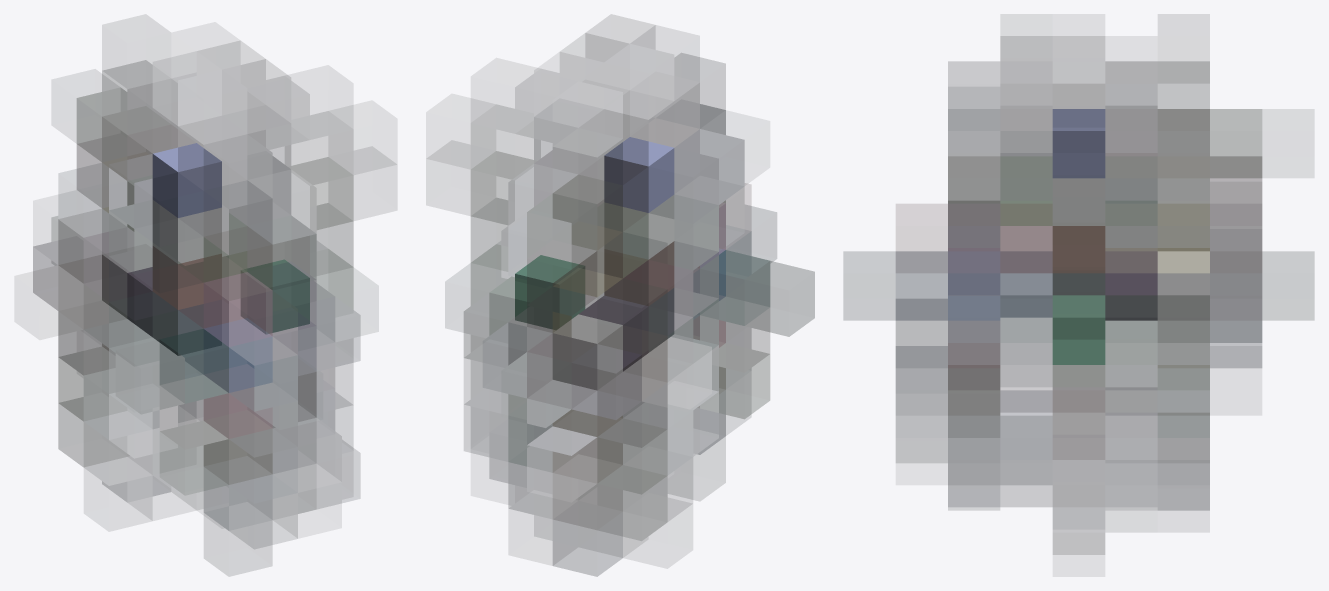
File: iter_10.obj
The picture shows the model from 3 angles, left to right: view 1: azimuth 30°, elevation 25°; view 2: azimuth 150°, elevation 25°; view 3: azimuth 270°, elevation 25°; orthographic projection. The views are drawn at different scales.
Parts seen in each view (by area): view 1: iter_10; view 2: iter_10; view 3: iter_10.
Part boxes in pixels (x1,y1,x2,y2): iter_10: [33, 41, 396, 575]; iter_10: [426, 15, 814, 576]; iter_10: [844, 36, 1313, 554].
Size of the model in its own units: 0.7 by 1 by 0.9.
